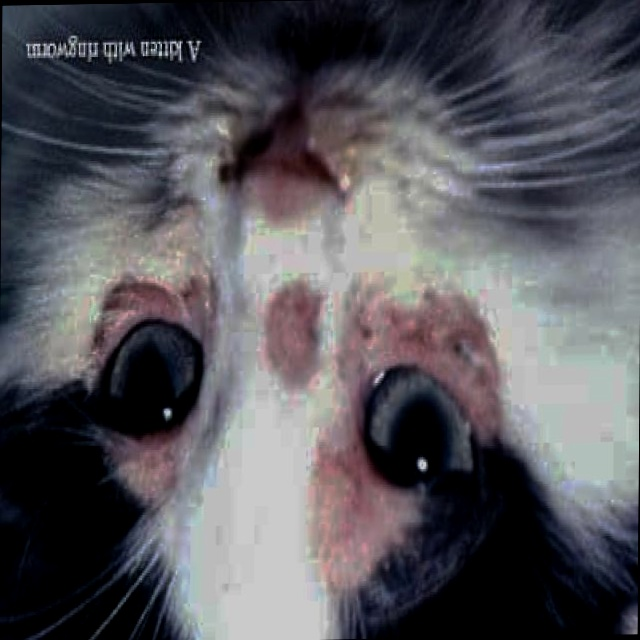ringworm: (354, 285, 506, 430), (103, 277, 199, 341), (265, 281, 309, 384)
